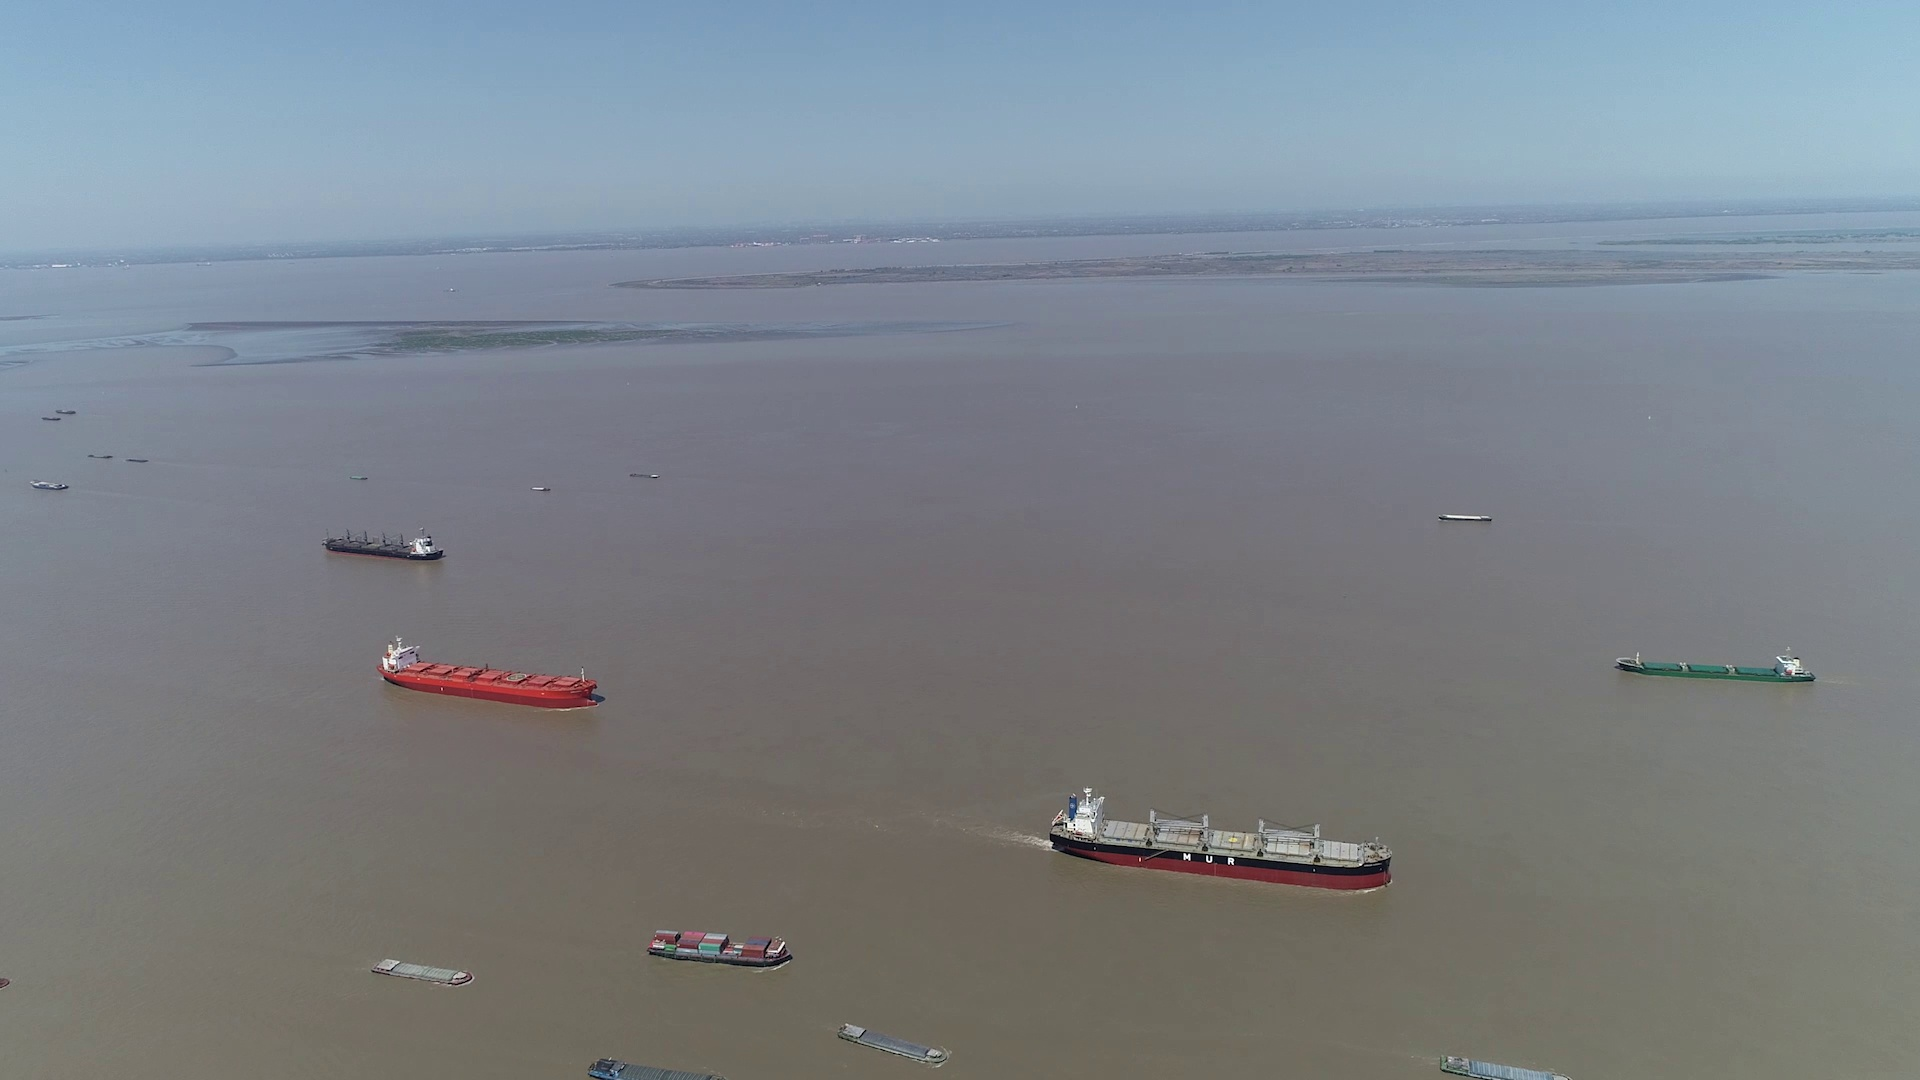ship: (1050, 789, 1393, 889), (378, 637, 597, 707), (1615, 651, 1816, 683), (647, 928, 794, 969), (835, 1025, 947, 1065), (322, 529, 444, 560), (1444, 1055, 1571, 1080), (589, 1058, 717, 1080), (375, 957, 473, 984), (1439, 514, 1490, 524), (32, 480, 71, 491), (628, 472, 659, 479)
